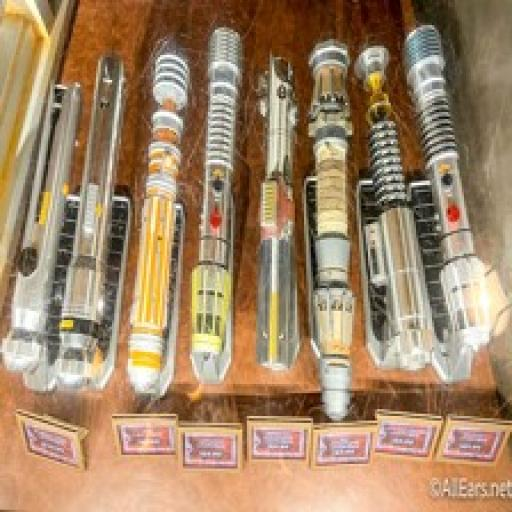lightsaber: (400, 23, 506, 350), (354, 46, 435, 370), (9, 78, 81, 374), (130, 52, 190, 398), (61, 56, 122, 390), (306, 40, 355, 424), (193, 29, 244, 392), (254, 54, 299, 375)
